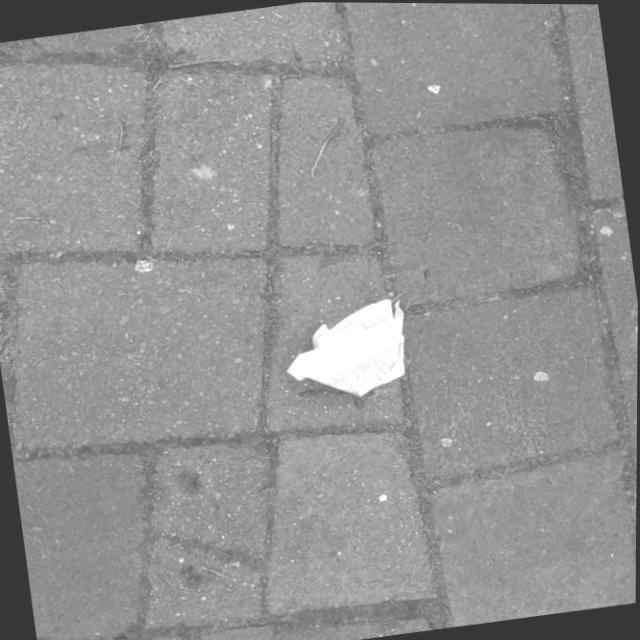Paper: (291, 297, 417, 405)
